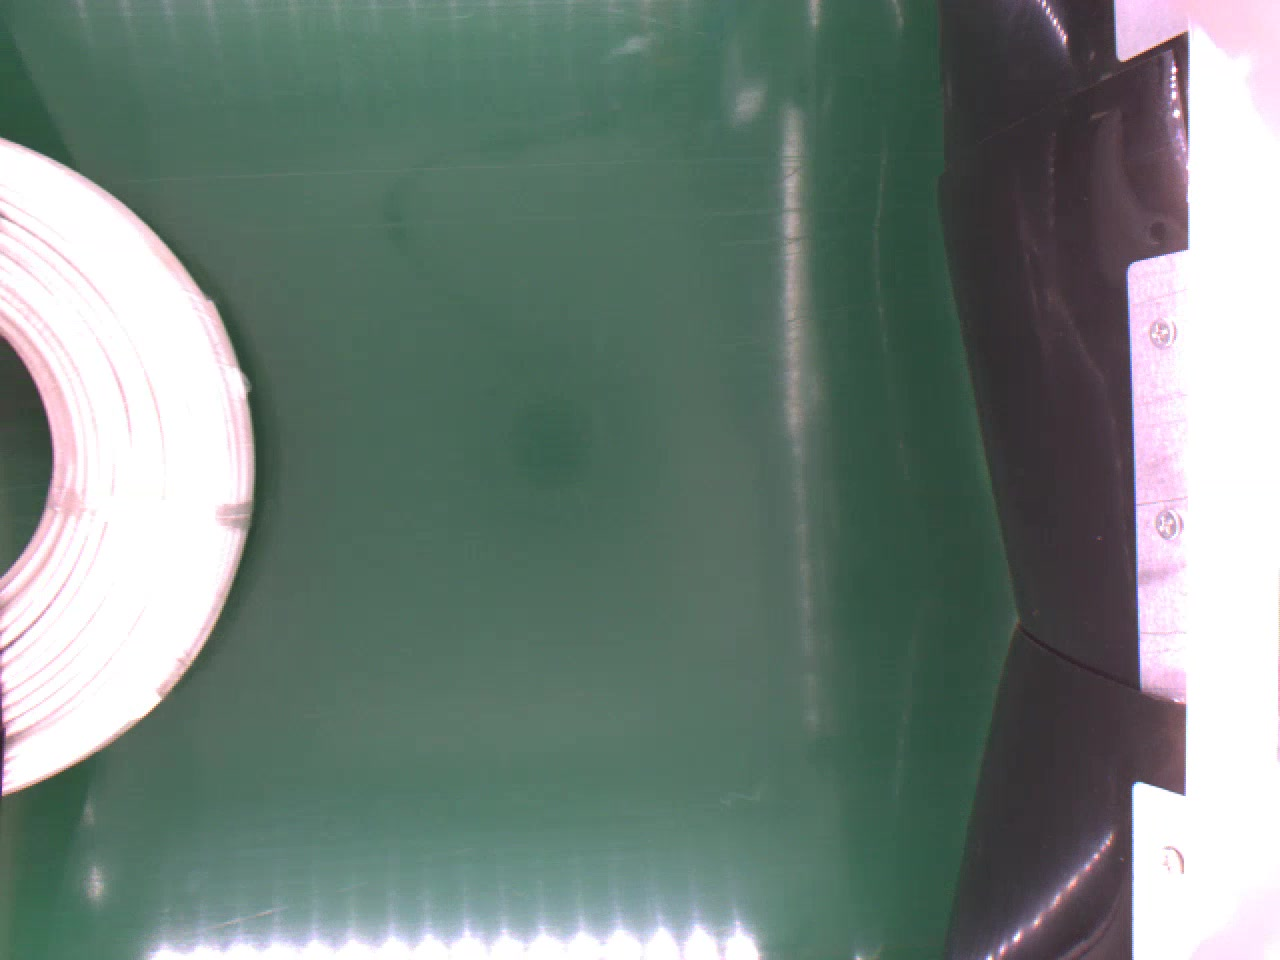white: (0, 142, 257, 810)
